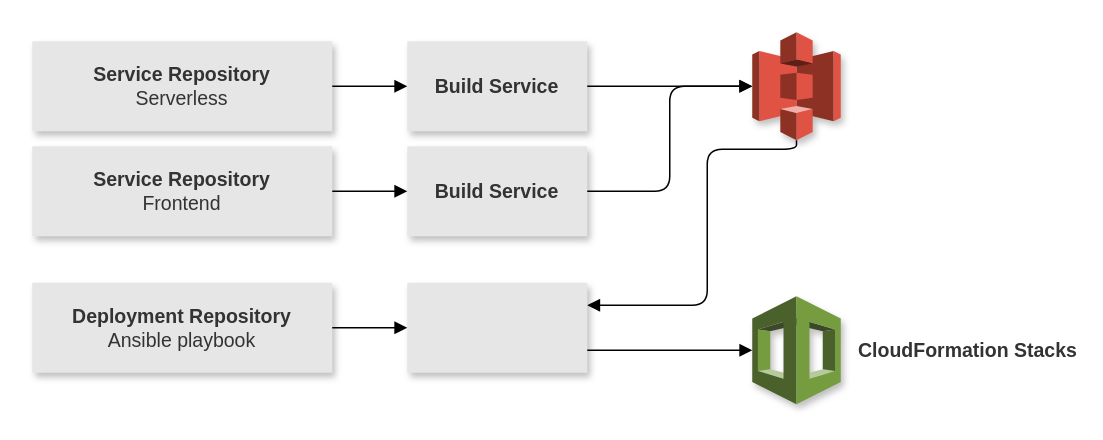
The diagram is 1103 pixels wide and 440 high, and some of its shapes have lost their labels. The centre of each missing label's shape, as x and y in pixels:
"Artifacts Buc ket" goes at point 797,88.
"Deploy Service" goes at point 498,329.
